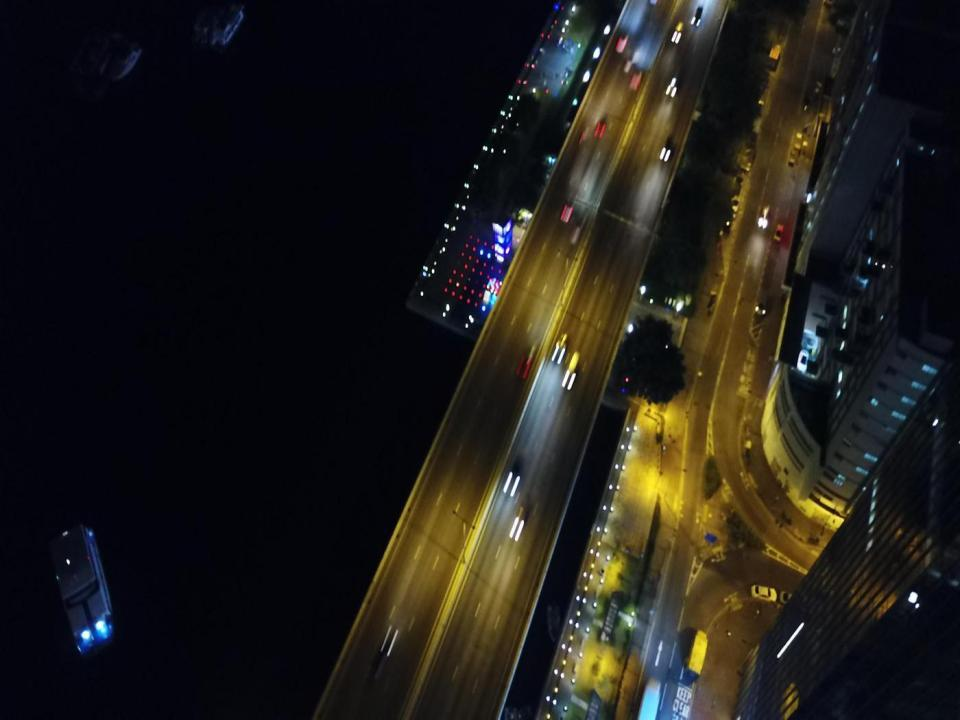car: (370, 643, 392, 683), (514, 492, 533, 528), (507, 454, 524, 483), (780, 591, 806, 609), (750, 586, 777, 603), (565, 349, 581, 376), (560, 190, 573, 223), (519, 346, 536, 369), (666, 71, 681, 95), (555, 332, 569, 357), (661, 132, 675, 157), (617, 26, 630, 52), (672, 22, 684, 47), (691, 6, 704, 26), (596, 114, 608, 134), (759, 206, 769, 230), (625, 51, 635, 71), (631, 72, 642, 89), (774, 223, 783, 242)
truck: (635, 677, 661, 719), (685, 630, 708, 677), (755, 288, 769, 316)
